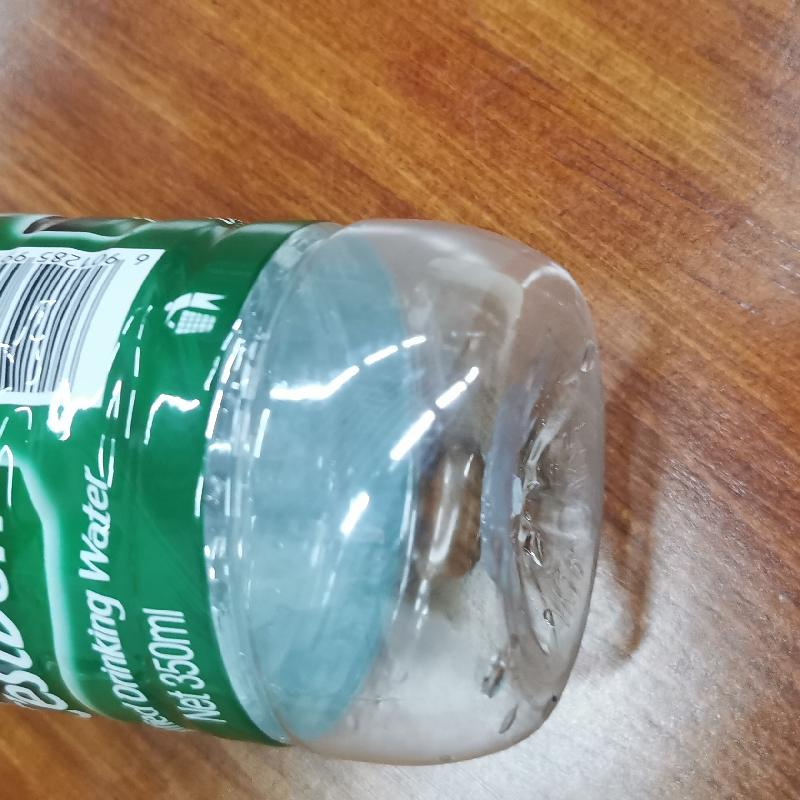bottles: (1, 191, 605, 767)
